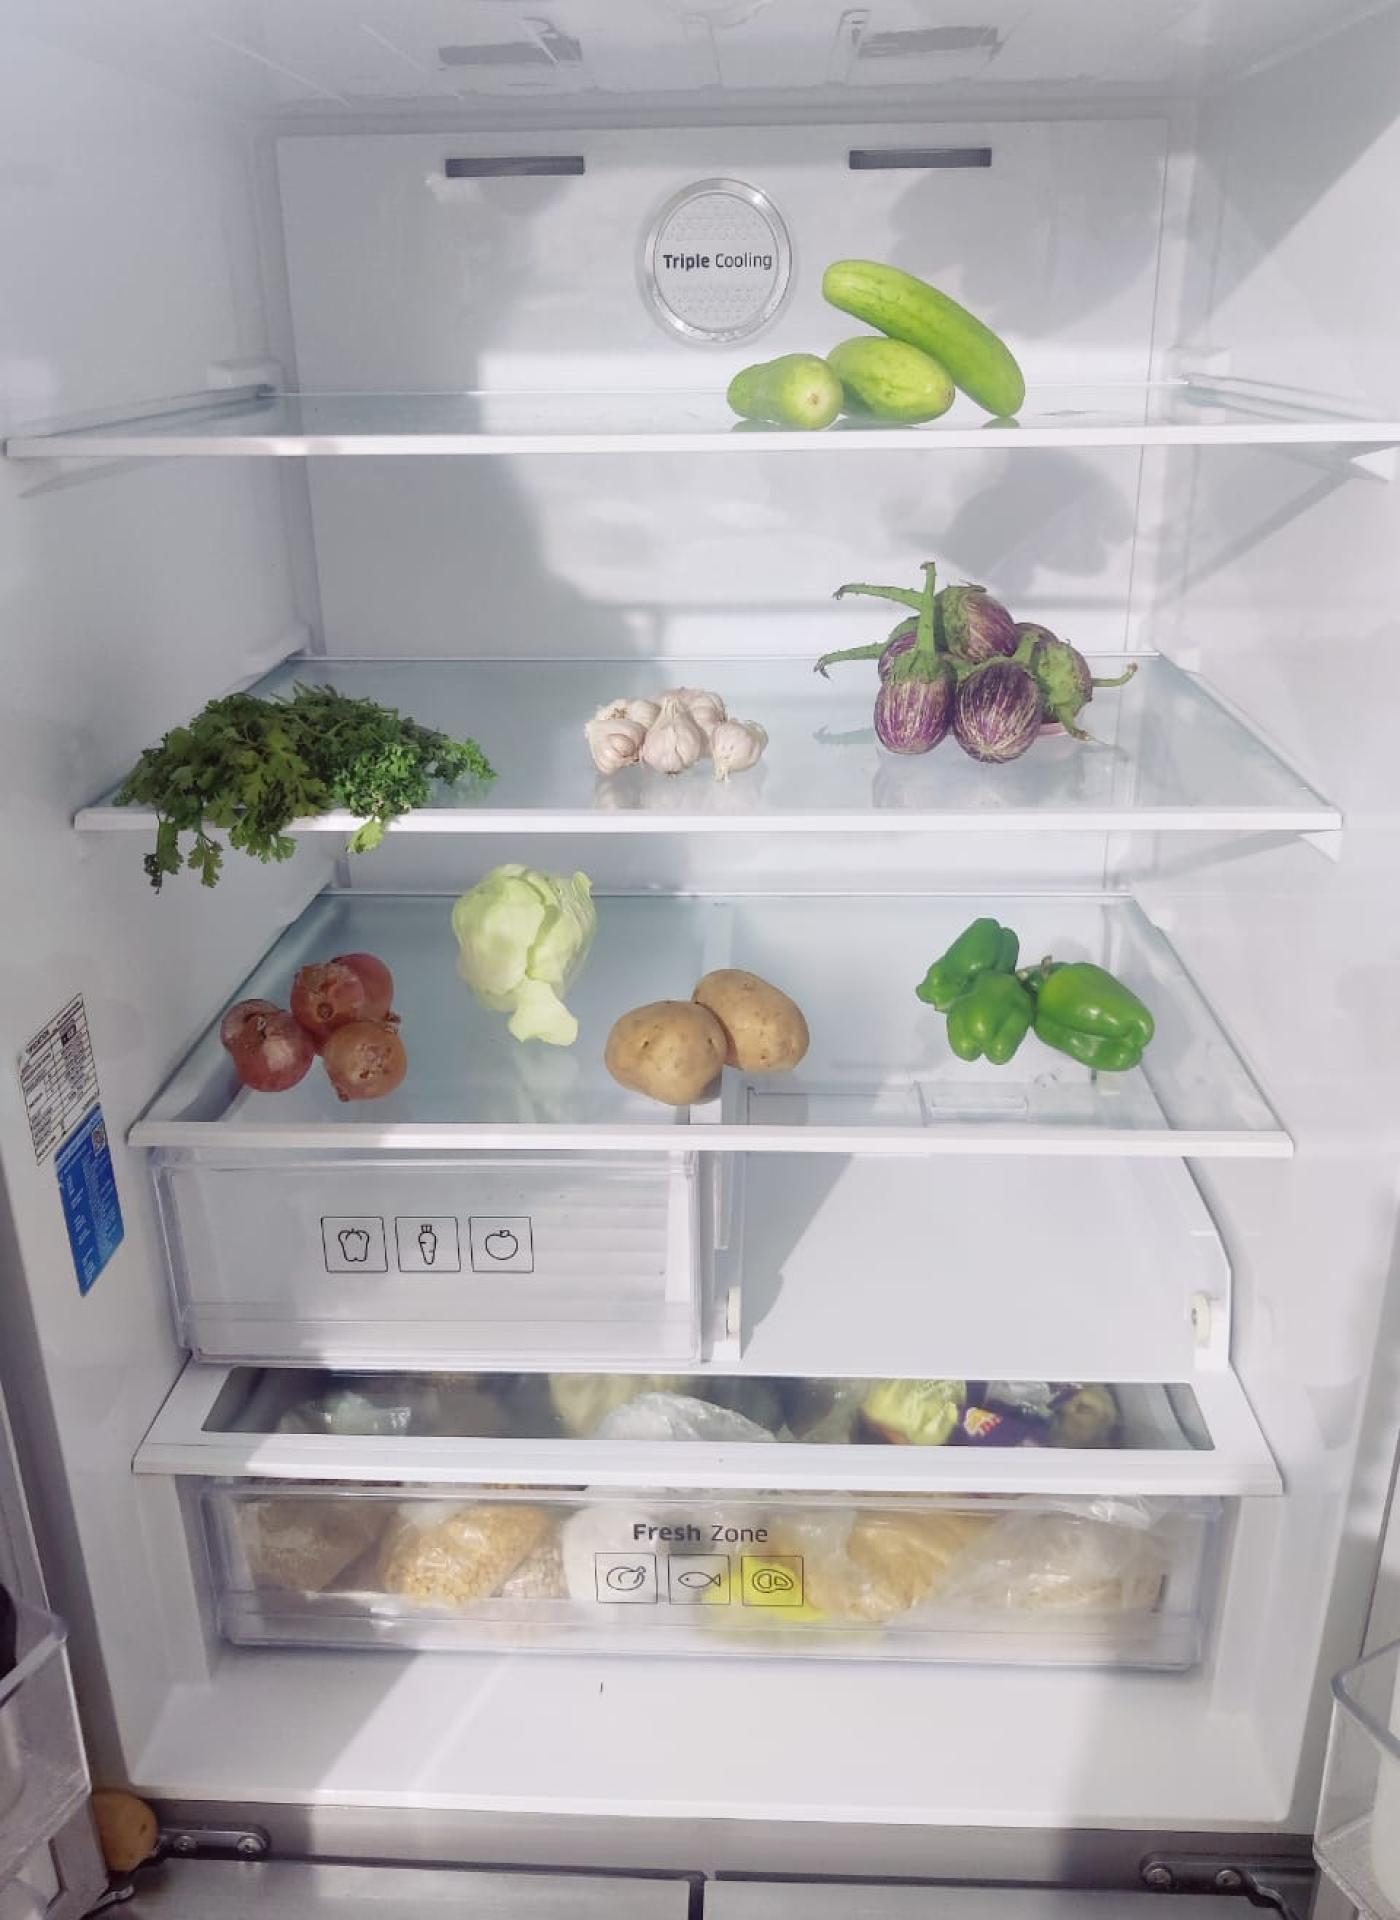brinjal: (851, 577, 1091, 747)
cabbage: (450, 862, 596, 1008)
capsicum: (924, 918, 1164, 1075)
coriander: (127, 681, 491, 836)
cucumber: (740, 267, 1048, 420)
garlic: (587, 675, 769, 769)
onion: (227, 953, 410, 1096)
potato: (602, 967, 810, 1105)
